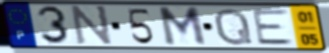3: (35, 5, 72, 46)
5: (125, 8, 156, 45)
E: (251, 8, 297, 47)
M: (156, 5, 209, 48)
N: (70, 4, 114, 47)
Q: (212, 7, 255, 47)
